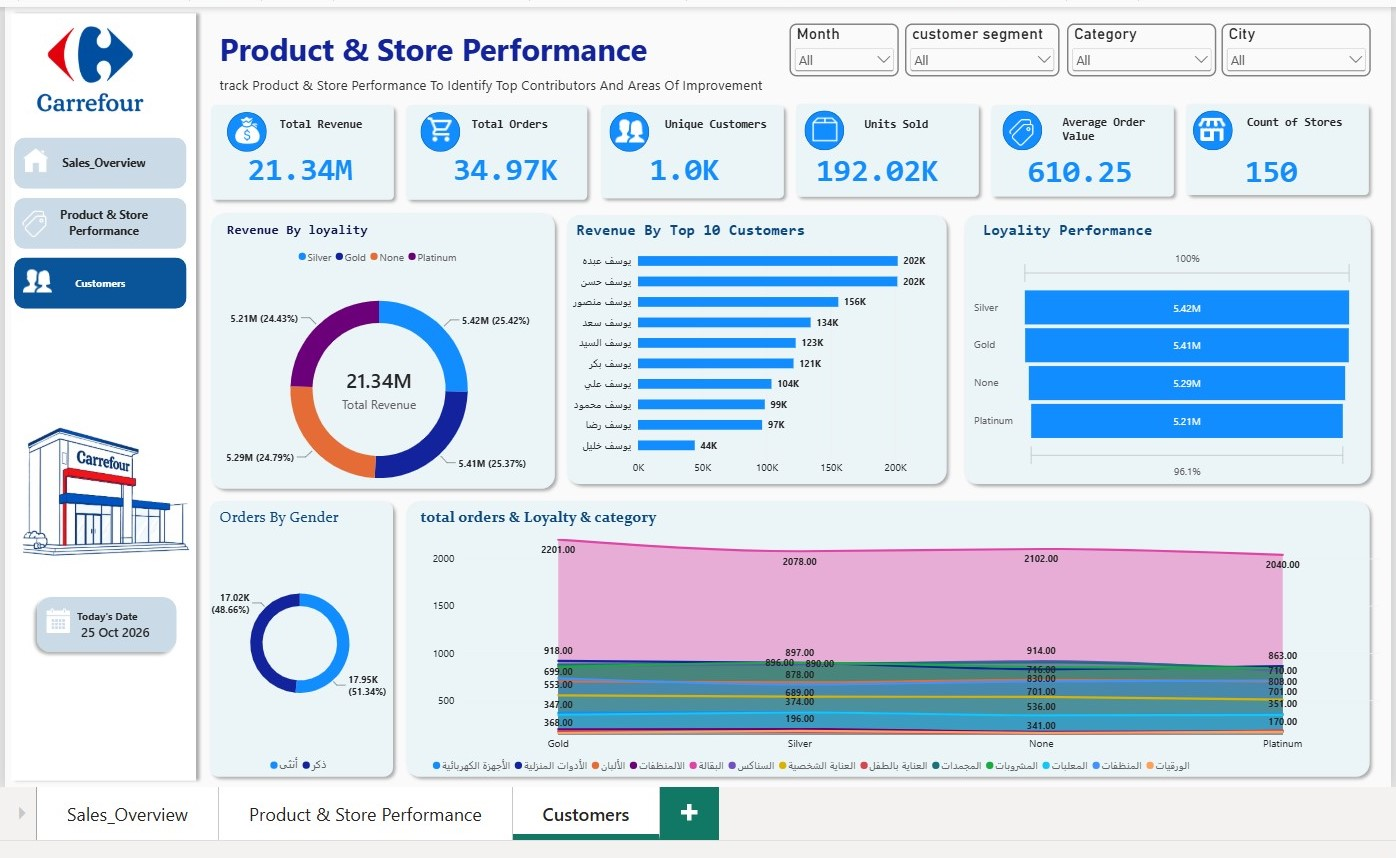

The page's visual inventory and layout, read from the dashboard file:
{"tool":"powerbi","page":{"name":"Customers","canvas":[1920,1080],"ordinal":2},"visuals":[{"type":"shape","box":[1318.1,277.8,581.1,391.2],"z":0},{"type":"shape","box":[1355.7,126.4,271.1,144.8],"z":1000},{"type":"shape","box":[1086.9,124.1,271.1,147.1],"z":2000},{"type":"shape","box":[815.7,126.4,271.1,147.1],"z":3000},{"type":"shape","box":[546.9,126.4,268.9,149.4],"z":4000},{"type":"shape","box":[275.7,126.4,271.1,149.4],"z":5000},{"type":"shape","box":[307.9,144.8,55,55],"z":6000},{"type":"shape","box":[768.2,277.8,544.3,391.2],"z":7000},{"type":"shape","box":[275,674.7,272.1,399.7],"z":8000},{"type":"shape","box":[275.7,275.7,494,399.8],"z":9000},{"type":"shape","box":[0,0,273.4,1080],"z":10000},{"type":"shape","box":[34.5,808.9,211.4,94.2],"z":11000},{"type":"image","box":[12,13,211.4,147.1],"z":12000},{"type":"pageNavigator","box":[11.7,180.9,239.6,237.3],"z":13000},{"type":"image","box":[25.8,195,35,35],"z":14000},{"type":"image","box":[25.8,359.4,40,40],"z":15000},{"type":"image","box":[32.9,434.6,40,40],"z":16000},{"type":"image","box":[11.5,535.4,250.5,268.9],"z":17000},{"type":"image","box":[55.1,831.8,35,35],"z":18000},{"type":"cardVisual","fields":{"Data":["Dim_Customers.today dat"]},"box":[89.6,836.4,149.4,55.1],"z":19000},{"type":"textbox","box":[100,831.8,105.7,25.3],"z":20000},{"type":"textbox","box":[296.4,29.9,696.3,59.7],"z":21000},{"type":"textbox","box":[296.4,96.5,818,29.9],"z":22000},{"type":"shape","box":[574.5,144.8,55,55],"z":23000},{"type":"shape","box":[836.4,144.8,55,55],"z":24000},{"type":"shape","box":[1107.6,142.5,55,55],"z":25000},{"type":"shape","box":[1381,142.5,55,55],"z":26000},{"type":"image","box":[314.8,151.7,40,40],"z":27000},{"type":"image","box":[583.7,149.4,40,40],"z":28000},{"type":"image","box":[845.6,151.7,40,40],"z":29000},{"type":"image","box":[1114.5,149.4,40,40],"z":30000},{"type":"image","box":[1387.9,154,40,40],"z":31000},{"type":"textbox","box":[379.1,151.7,135.6,29.9],"z":32000},{"type":"textbox","box":[645.7,151.7,124.1,36.8],"z":33000},{"type":"textbox","box":[914.6,151.7,172.3,29.9],"z":34000},{"type":"textbox","box":[1190.3,151.7,119.5,36.8],"z":35000},{"type":"textbox","box":[1463.7,149.4,163.1,55.1],"z":36000},{"type":"cardVisual","fields":{"Data":["Fact_Sales.Total Revenue"]},"box":[319.4,176.9,227.5,96.5],"z":37000},{"type":"cardVisual","fields":{"Data":["Fact_Sales.Total Orders"]},"box":[604.3,174.6,213.7,101.1],"z":38000},{"type":"cardVisual","fields":{"Data":["Fact_Sales.Unique Customers"]},"box":[875.5,181.5,174.6,89.6],"z":39000},{"type":"cardVisual","fields":{"Data":["Fact_Sales.Average Order"]},"box":[1399.4,190.7,225.2,73.5],"z":40000},{"type":"cardVisual","fields":{"Data":["Fact_Sales.Units Sold"]},"box":[1107.6,176.9,273.4,98.8],"z":41000},{"type":"shape","box":[1626.9,124.1,271.1,144.8],"z":42000},{"type":"shape","box":[1645.3,142.5,55,55],"z":43000},{"type":"cardVisual","fields":{"Data":["Fact_Sales.stors"]},"box":[1700.4,186.1,165.4,82.7],"z":44000},{"type":"image","box":[1652.2,149.4,40,40],"z":45000},{"type":"textbox","box":[1718.8,149.4,133.3,41.4],"z":46000},{"type":"image","box":[1615.4,714.6,29.9,29.9],"z":47000},{"type":"slicer","fields":{"Values":["Dim_Stores.City"]},"box":[1684.3,23,206.8,73.5],"z":48000},{"type":"slicer","fields":{"Values":["Dim_Products.Category"]},"box":[1470.6,23,206.8,73.5],"z":49000},{"type":"slicer","fields":{"Values":["Dim_Customers.Loyalty_Program"]},"box":[1245.4,23,213.7,73.5],"z":50000},{"type":"slicer","fields":{"Values":["Fact_Sales.Date.Variation.Date Hierarchy.Month"]},"box":[1086.9,23,151.7,73.5],"z":51000},{"type":"textbox","box":[307.9,296.4,397.5,36.8],"z":52000},{"type":"textbox","box":[297.6,694.5,209.8,53.9],"z":53000},{"type":"barChart","fields":{"Category":["Dim_Customers.Customer_Name"],"Y":["Fact_Sales.Total Revenue"]},"box":[767.5,312.5,538.6,357.2],"z":54000},{"type":"textbox","box":[790.9,297.6,425.2,36.9],"z":55000},{"type":"shape","box":[547.1,674.7,1352.1,399.7],"z":56000},{"type":"textbox","box":[575.4,694.5,377,53.9],"z":57000},{"type":"funnel","fields":{"Category":["Dim_Customers.Loyalty_Program"],"Y":["Fact_Sales.Total Revenue"]},"box":[1340.8,334.5,524.4,320.3],"z":58000},{"type":"textbox","box":[1355,297.6,362.8,36.9],"z":59000},{"type":"donutChart","fields":{"Category":["Dim_Customers.Loyalty_Program"],"Y":["Fact_Sales.Total Revenue"]},"box":[271.1,314.8,491.7,399.8],"z":60000},{"type":"pieChart","fields":{"Category":["Dim_Customers.Gender"],"Y":["Fact_Sales.Total Orders"]},"box":[272.1,714.3,272.1,365.7],"z":61000},{"type":"areaChart","fields":{"Category":["Dim_Customers.Loyalty_Program"],"Series":["Dim_Products.Category"],"Y":["Fact_Sales.Total Orders"]},"box":[575.4,714.3,1343.6,365.7],"z":62000},{"type":"image","box":[21.1,279.5,40,40],"z":63000}]}

Visuals, with their boxes on the page's 1920x1080 design canvas (x1, y1, x2, y2). These are canvas units, not pixel positions in the 1396x858 screenshot, which may show the page scaled, cropped or inside an application window:
shape: BBox(1318, 278, 1899, 669)
shape: BBox(1356, 126, 1627, 271)
shape: BBox(1087, 124, 1358, 271)
shape: BBox(816, 126, 1087, 274)
shape: BBox(547, 126, 816, 276)
shape: BBox(276, 126, 547, 276)
shape: BBox(308, 145, 363, 200)
shape: BBox(768, 278, 1312, 669)
shape: BBox(275, 675, 547, 1074)
shape: BBox(276, 276, 770, 676)
shape: BBox(0, 0, 273, 1080)
shape: BBox(34, 809, 246, 903)
image: BBox(12, 13, 223, 160)
pageNavigator: BBox(12, 181, 251, 418)
image: BBox(26, 195, 61, 230)
image: BBox(26, 359, 66, 399)
image: BBox(33, 435, 73, 475)
image: BBox(12, 535, 262, 804)
image: BBox(55, 832, 90, 867)
cardVisual - Dim_Customers.today dat: BBox(90, 836, 239, 892)
textbox: BBox(100, 832, 206, 857)
textbox: BBox(296, 30, 993, 90)
textbox: BBox(296, 96, 1114, 126)
shape: BBox(574, 145, 630, 200)
shape: BBox(836, 145, 891, 200)
shape: BBox(1108, 142, 1163, 198)
shape: BBox(1381, 142, 1436, 198)
image: BBox(315, 152, 355, 192)
image: BBox(584, 149, 624, 189)
image: BBox(846, 152, 886, 192)
image: BBox(1114, 149, 1154, 189)
image: BBox(1388, 154, 1428, 194)
textbox: BBox(379, 152, 515, 182)
textbox: BBox(646, 152, 770, 188)
textbox: BBox(915, 152, 1087, 182)
textbox: BBox(1190, 152, 1310, 188)
textbox: BBox(1464, 149, 1627, 204)
cardVisual - Fact_Sales.Total Revenue: BBox(319, 177, 547, 273)
cardVisual - Fact_Sales.Total Orders: BBox(604, 175, 818, 276)
cardVisual - Fact_Sales.Unique Customers: BBox(876, 182, 1050, 271)
cardVisual - Fact_Sales.Average Order: BBox(1399, 191, 1625, 264)
cardVisual - Fact_Sales.Units Sold: BBox(1108, 177, 1381, 276)
shape: BBox(1627, 124, 1898, 269)
shape: BBox(1645, 142, 1700, 198)
cardVisual - Fact_Sales.stors: BBox(1700, 186, 1866, 269)
image: BBox(1652, 149, 1692, 189)
textbox: BBox(1719, 149, 1852, 191)
image: BBox(1615, 715, 1645, 744)
slicer - Dim_Stores.City: BBox(1684, 23, 1891, 96)
slicer - Dim_Products.Category: BBox(1471, 23, 1677, 96)
slicer - Dim_Customers.Loyalty_Program: BBox(1245, 23, 1459, 96)
slicer - Fact_Sales.Date.Variation.Date Hierarchy.Month: BBox(1087, 23, 1239, 96)
textbox: BBox(308, 296, 705, 333)
textbox: BBox(298, 694, 507, 748)
barChart - Dim_Customers.Customer_Name x Fact_Sales.Total Revenue: BBox(768, 312, 1306, 670)
textbox: BBox(791, 298, 1216, 334)
shape: BBox(547, 675, 1899, 1074)
textbox: BBox(575, 694, 952, 748)
funnel - Dim_Customers.Loyalty_Program x Fact_Sales.Total Revenue: BBox(1341, 334, 1865, 655)
textbox: BBox(1355, 298, 1718, 334)
donutChart - Dim_Customers.Loyalty_Program x Fact_Sales.Total Revenue: BBox(271, 315, 763, 715)
pieChart - Dim_Customers.Gender x Fact_Sales.Total Orders: BBox(272, 714, 544, 1080)
areaChart - Dim_Customers.Loyalty_Program x Dim_Products.Category: BBox(575, 714, 1919, 1080)
image: BBox(21, 280, 61, 320)
